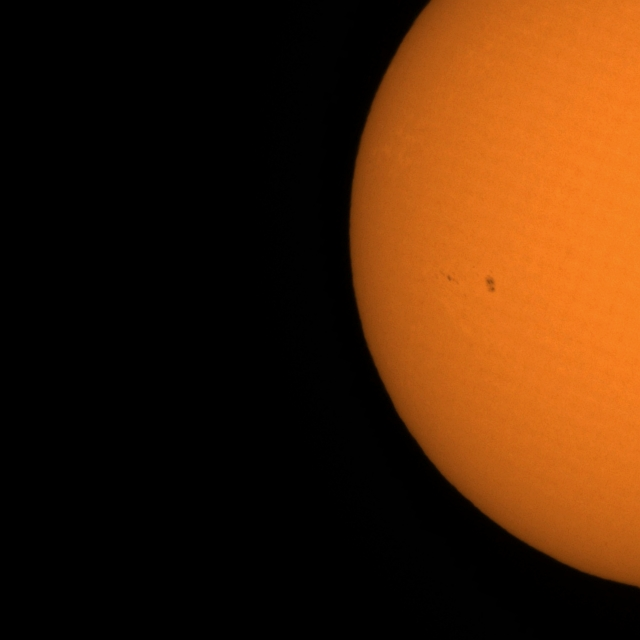sunspot: (484, 272, 497, 294), (444, 271, 458, 285)
